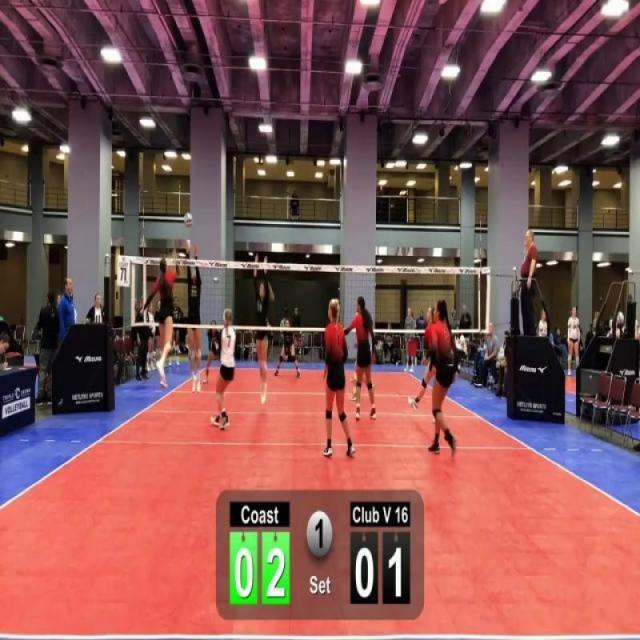volleyball: (182, 210, 192, 229), (616, 310, 625, 326)
